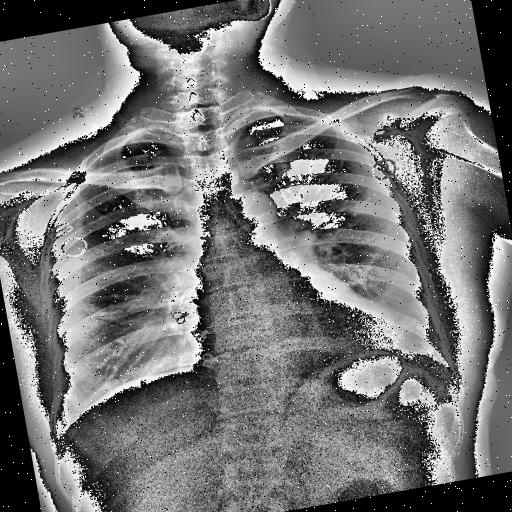3- Cardiomegaly: (182, 262, 409, 385), (178, 266, 408, 382)
4- Consolidation: (136, 258, 222, 372)
9- Other lesion: (122, 256, 210, 352)
